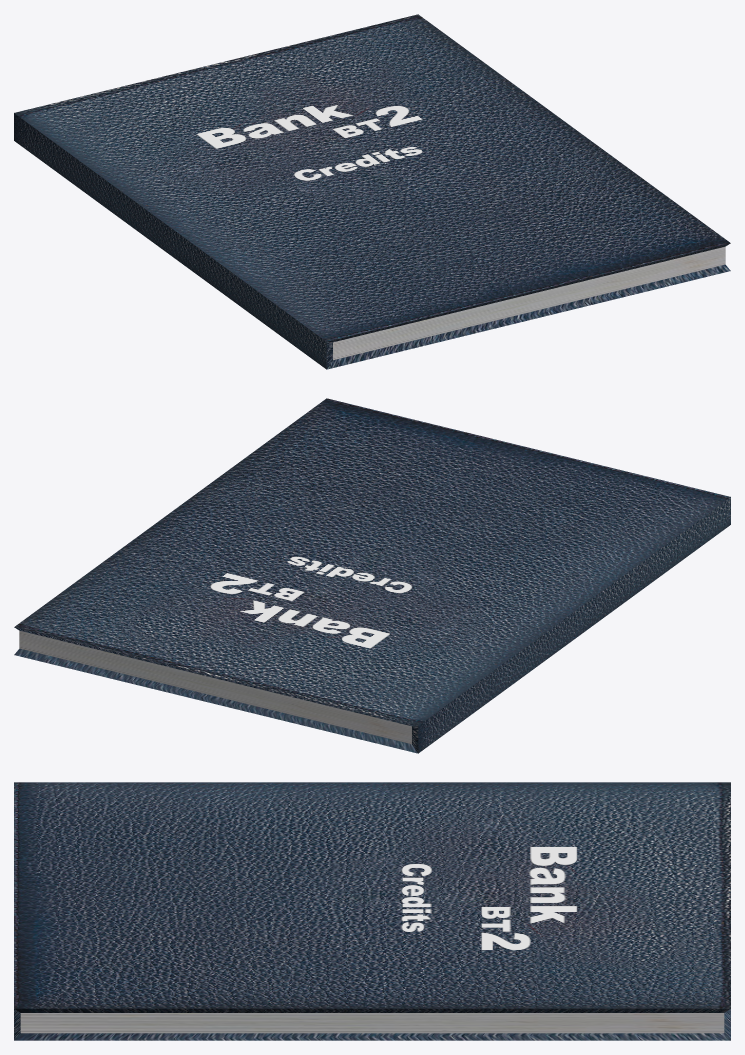
Rendered from Book 1.FBX.
3 views of the same model, one above another, from view 1: azimuth 30°, elevation 25°; view 2: azimuth 150°, elevation 25°; view 3: azimuth 270°, elevation 25° (orthographic). The views are drawn at different scales.
Visible parts, largest first — view 1: Book 1; view 2: Book 1; view 3: Book 1.
Part boxes in pixels (bbox=[...]): Book 1: bbox=[14, 14, 730, 369]; Book 1: bbox=[14, 398, 730, 753]; Book 1: bbox=[14, 782, 730, 1040].
Bounding box in the file's own units: 24.27 × 1.6 × 32.52.
Materials: 1 (1 with a texture image).
